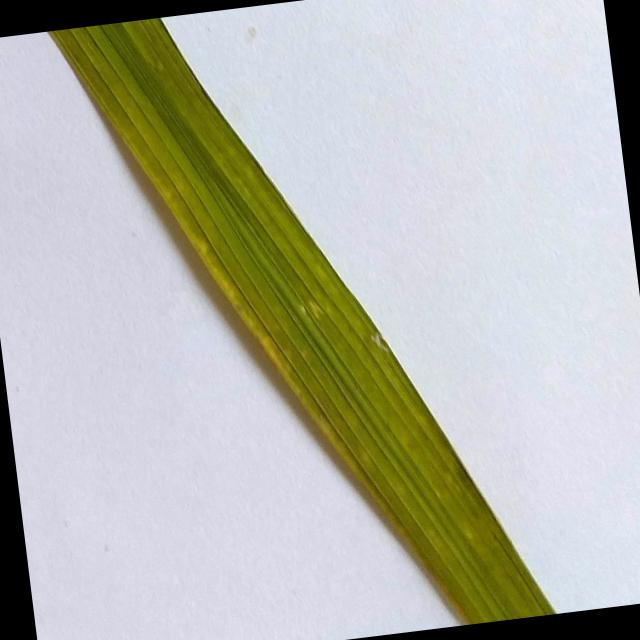Rice_Healthy: (49, 17, 555, 624)
